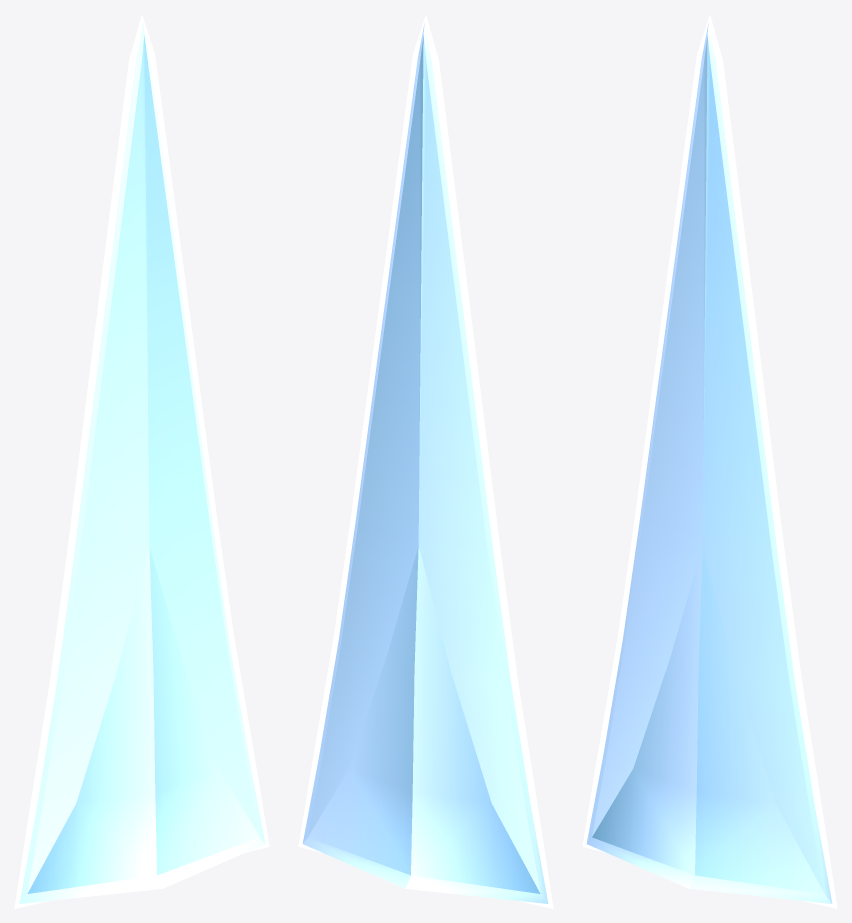
File: steel_blade (20).glb
3 renders of one model, left to right at view 1: azimuth 30°, elevation 25°; view 2: azimuth 150°, elevation 25°; view 3: azimuth 330°, elevation 25°, orthographic.
Visible parts, largest first — view 1: steel_blade_steel.043; view 2: steel_blade_steel.043; view 3: steel_blade_steel.043.
Boxes of the visible parts, <box> form: steel_blade_steel.043: <box>14,15,269,908</box>; steel_blade_steel.043: <box>298,15,553,908</box>; steel_blade_steel.043: <box>582,15,837,908</box>.
Size of the model in its own units: 3.52 by 11.43 by 0.9907.
Materials: 1 (1 with a texture image).
